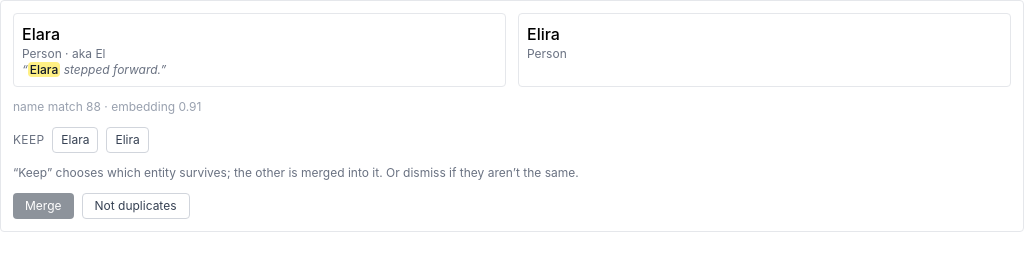
Test: DuplicatePairCard › surfaces a details-error when a detail read fails and the merge has not succeeded
Step 1. Click the button with test id "duplicate-keep-a" → {"x": 75, "y": 140}, box [52,127,98,153]
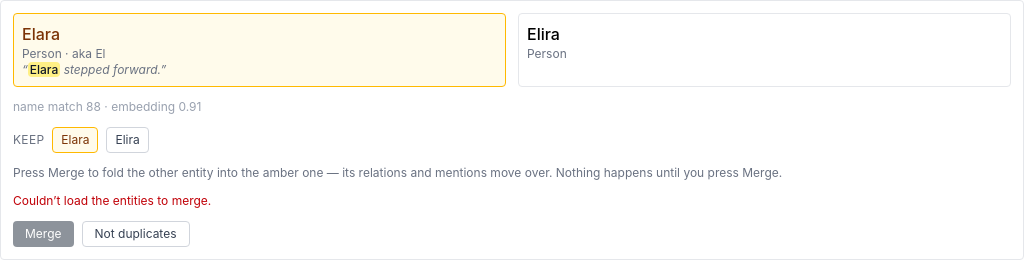
Result: the message "Couldn’t load the entities to merge." is shown at [13,193,211,208]
